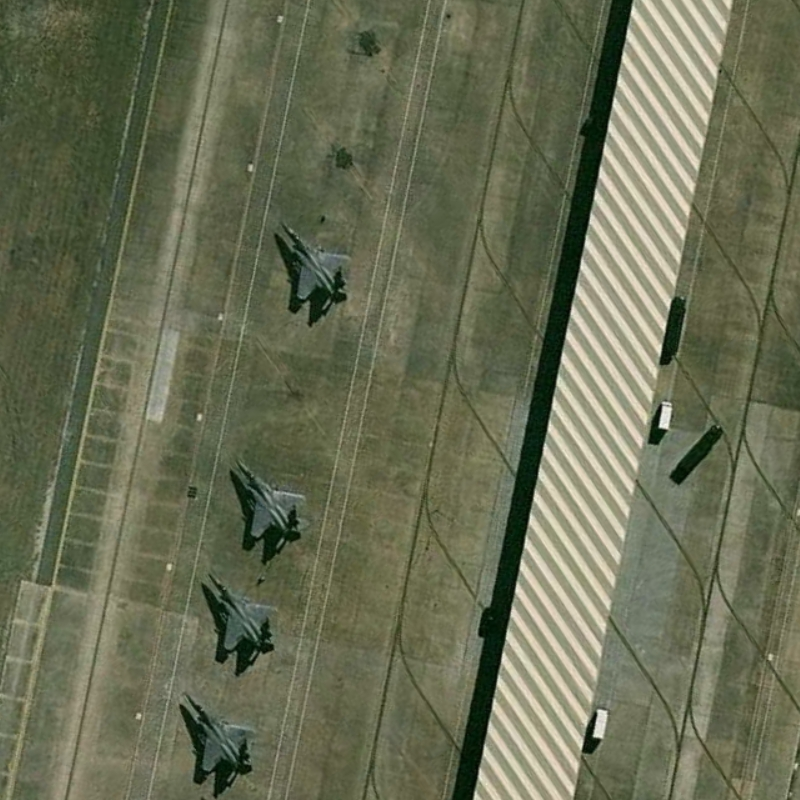A13: (269, 209, 361, 321), (179, 686, 265, 790), (232, 453, 315, 558), (199, 571, 282, 668)
